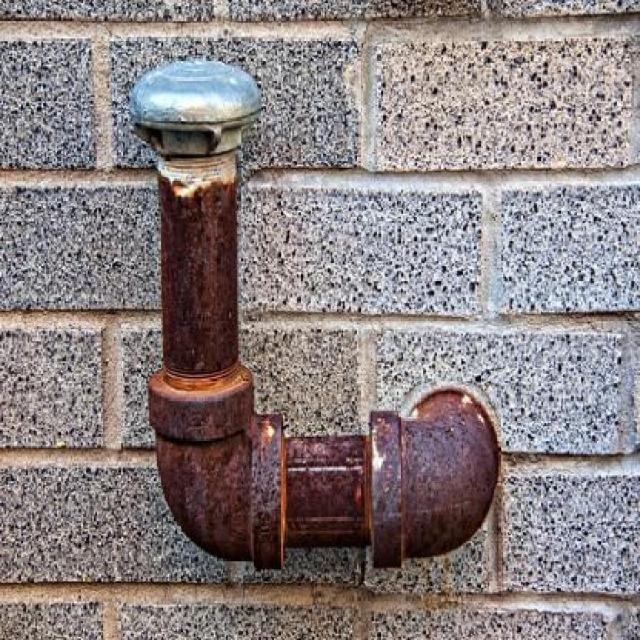corrosion: (130, 54, 498, 574)
